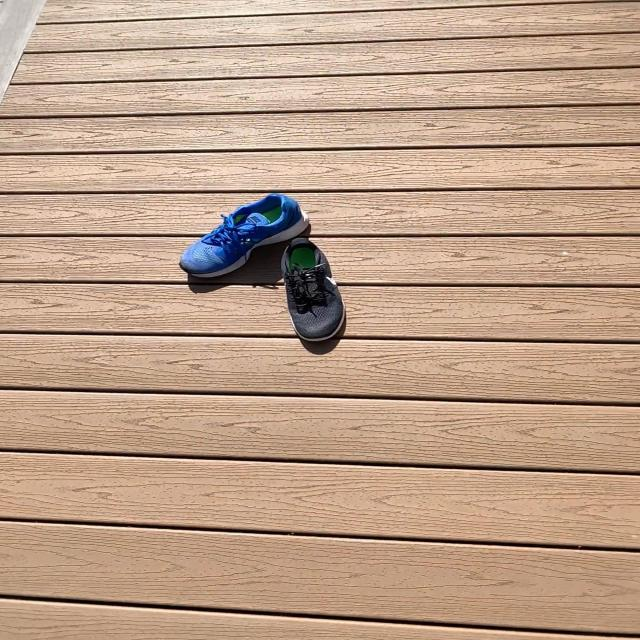shoe: (176, 195, 310, 276), (280, 242, 346, 347)
